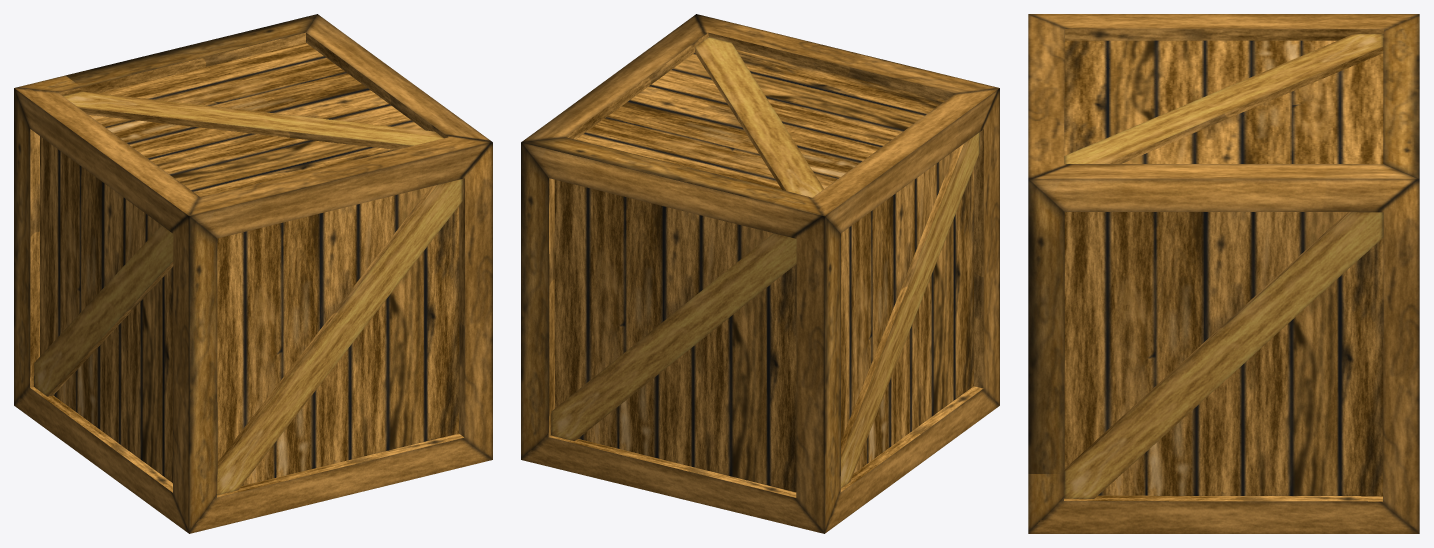
File: WoodenBoxKai.fbx
The picture shows the model from 3 angles, left to right: view 1: azimuth 30°, elevation 25°; view 2: azimuth 150°, elevation 25°; view 3: azimuth 270°, elevation 25°; orthographic projection. The views are drawn at different scales.
Parts seen in each view (by area): view 1: WoodenBox; view 2: WoodenBox; view 3: WoodenBox.
Boxes of the visible parts, x1,y1,x2,y2 form: WoodenBox: (14, 14, 492, 533); WoodenBox: (521, 14, 999, 533); WoodenBox: (1028, 14, 1419, 533).
Bounding box in the file's own units: 49.8 × 49.81 × 49.8.
1 material, 1 textured.
